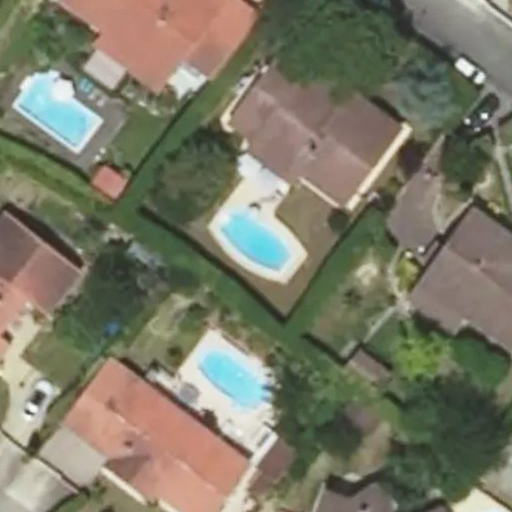pool: (15, 77, 99, 149), (220, 206, 295, 275), (198, 347, 269, 411)
